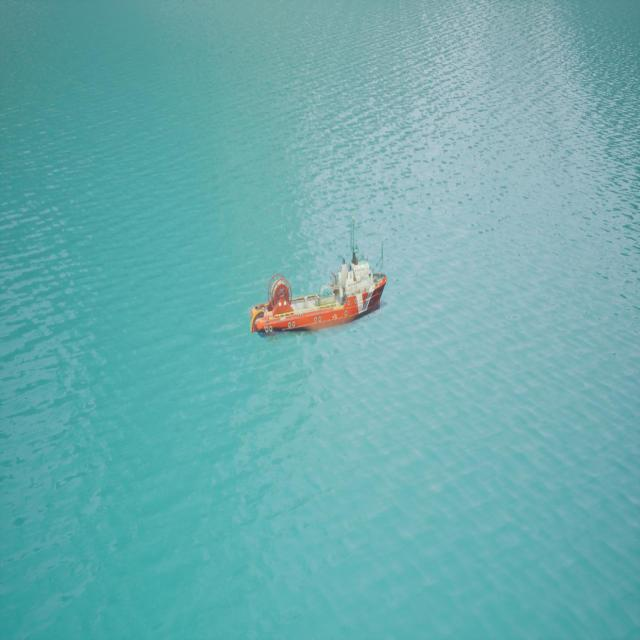tug boat: (254, 260, 388, 337)
